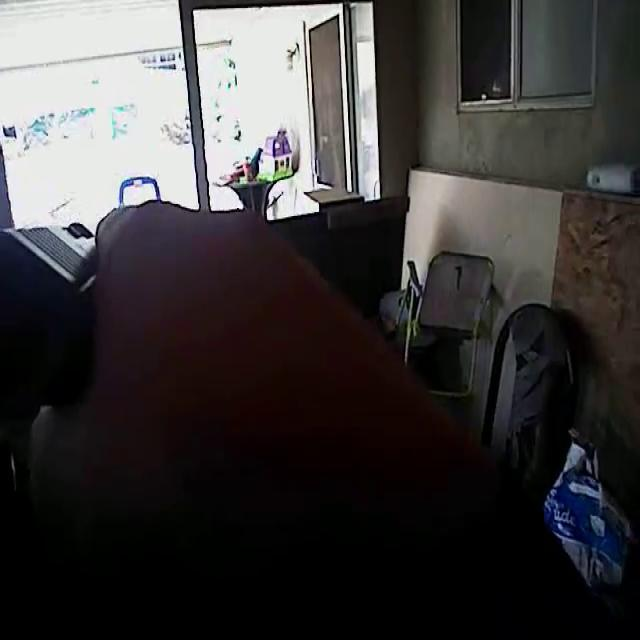gun: (0, 177, 154, 467)
